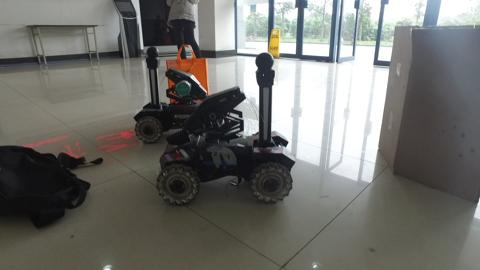chariot: (162, 57, 299, 203), (136, 44, 195, 141)
